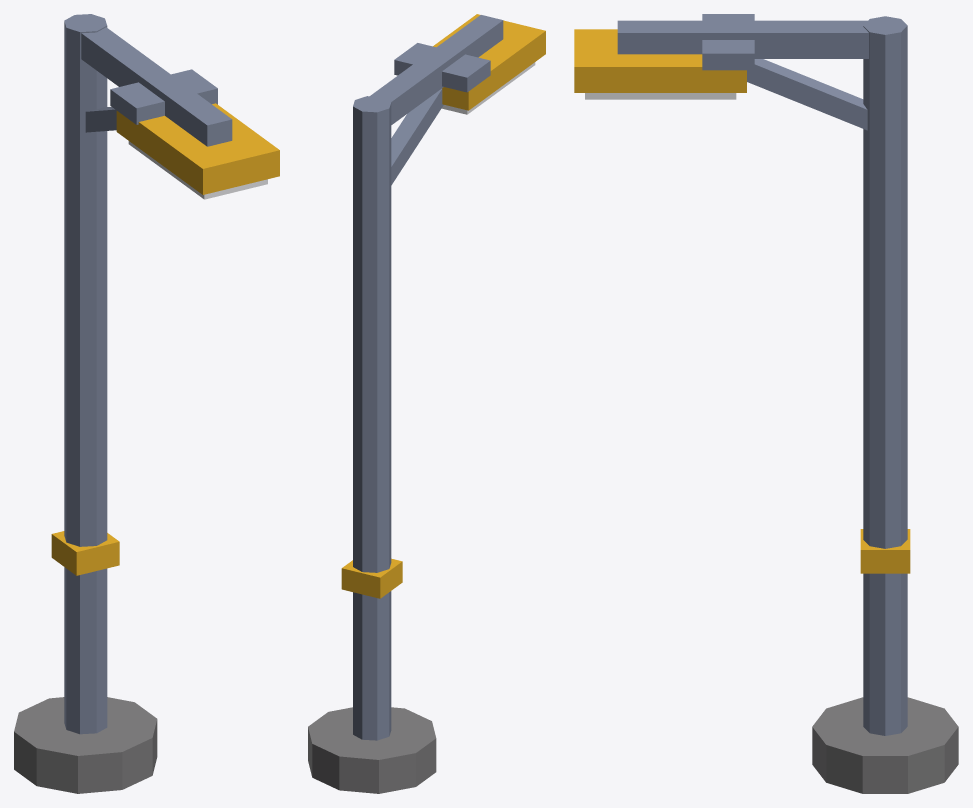
Rendered from lamp.glb.
3 renders of one model, left to right at view 1: azimuth 30°, elevation 25°; view 2: azimuth 150°, elevation 25°; view 3: azimuth 270°, elevation 25°, orthographic. The views are drawn at different scales.
Visible parts, largest first — view 1: lamp; view 2: lamp; view 3: lamp.
Part boxes in pixels (x1,y1,x2,y2): lamp: (14, 14, 279, 793); lamp: (308, 14, 545, 793); lamp: (574, 14, 958, 793).
Size of the model in its own units: 0.5326 by 3.12 by 1.47.
